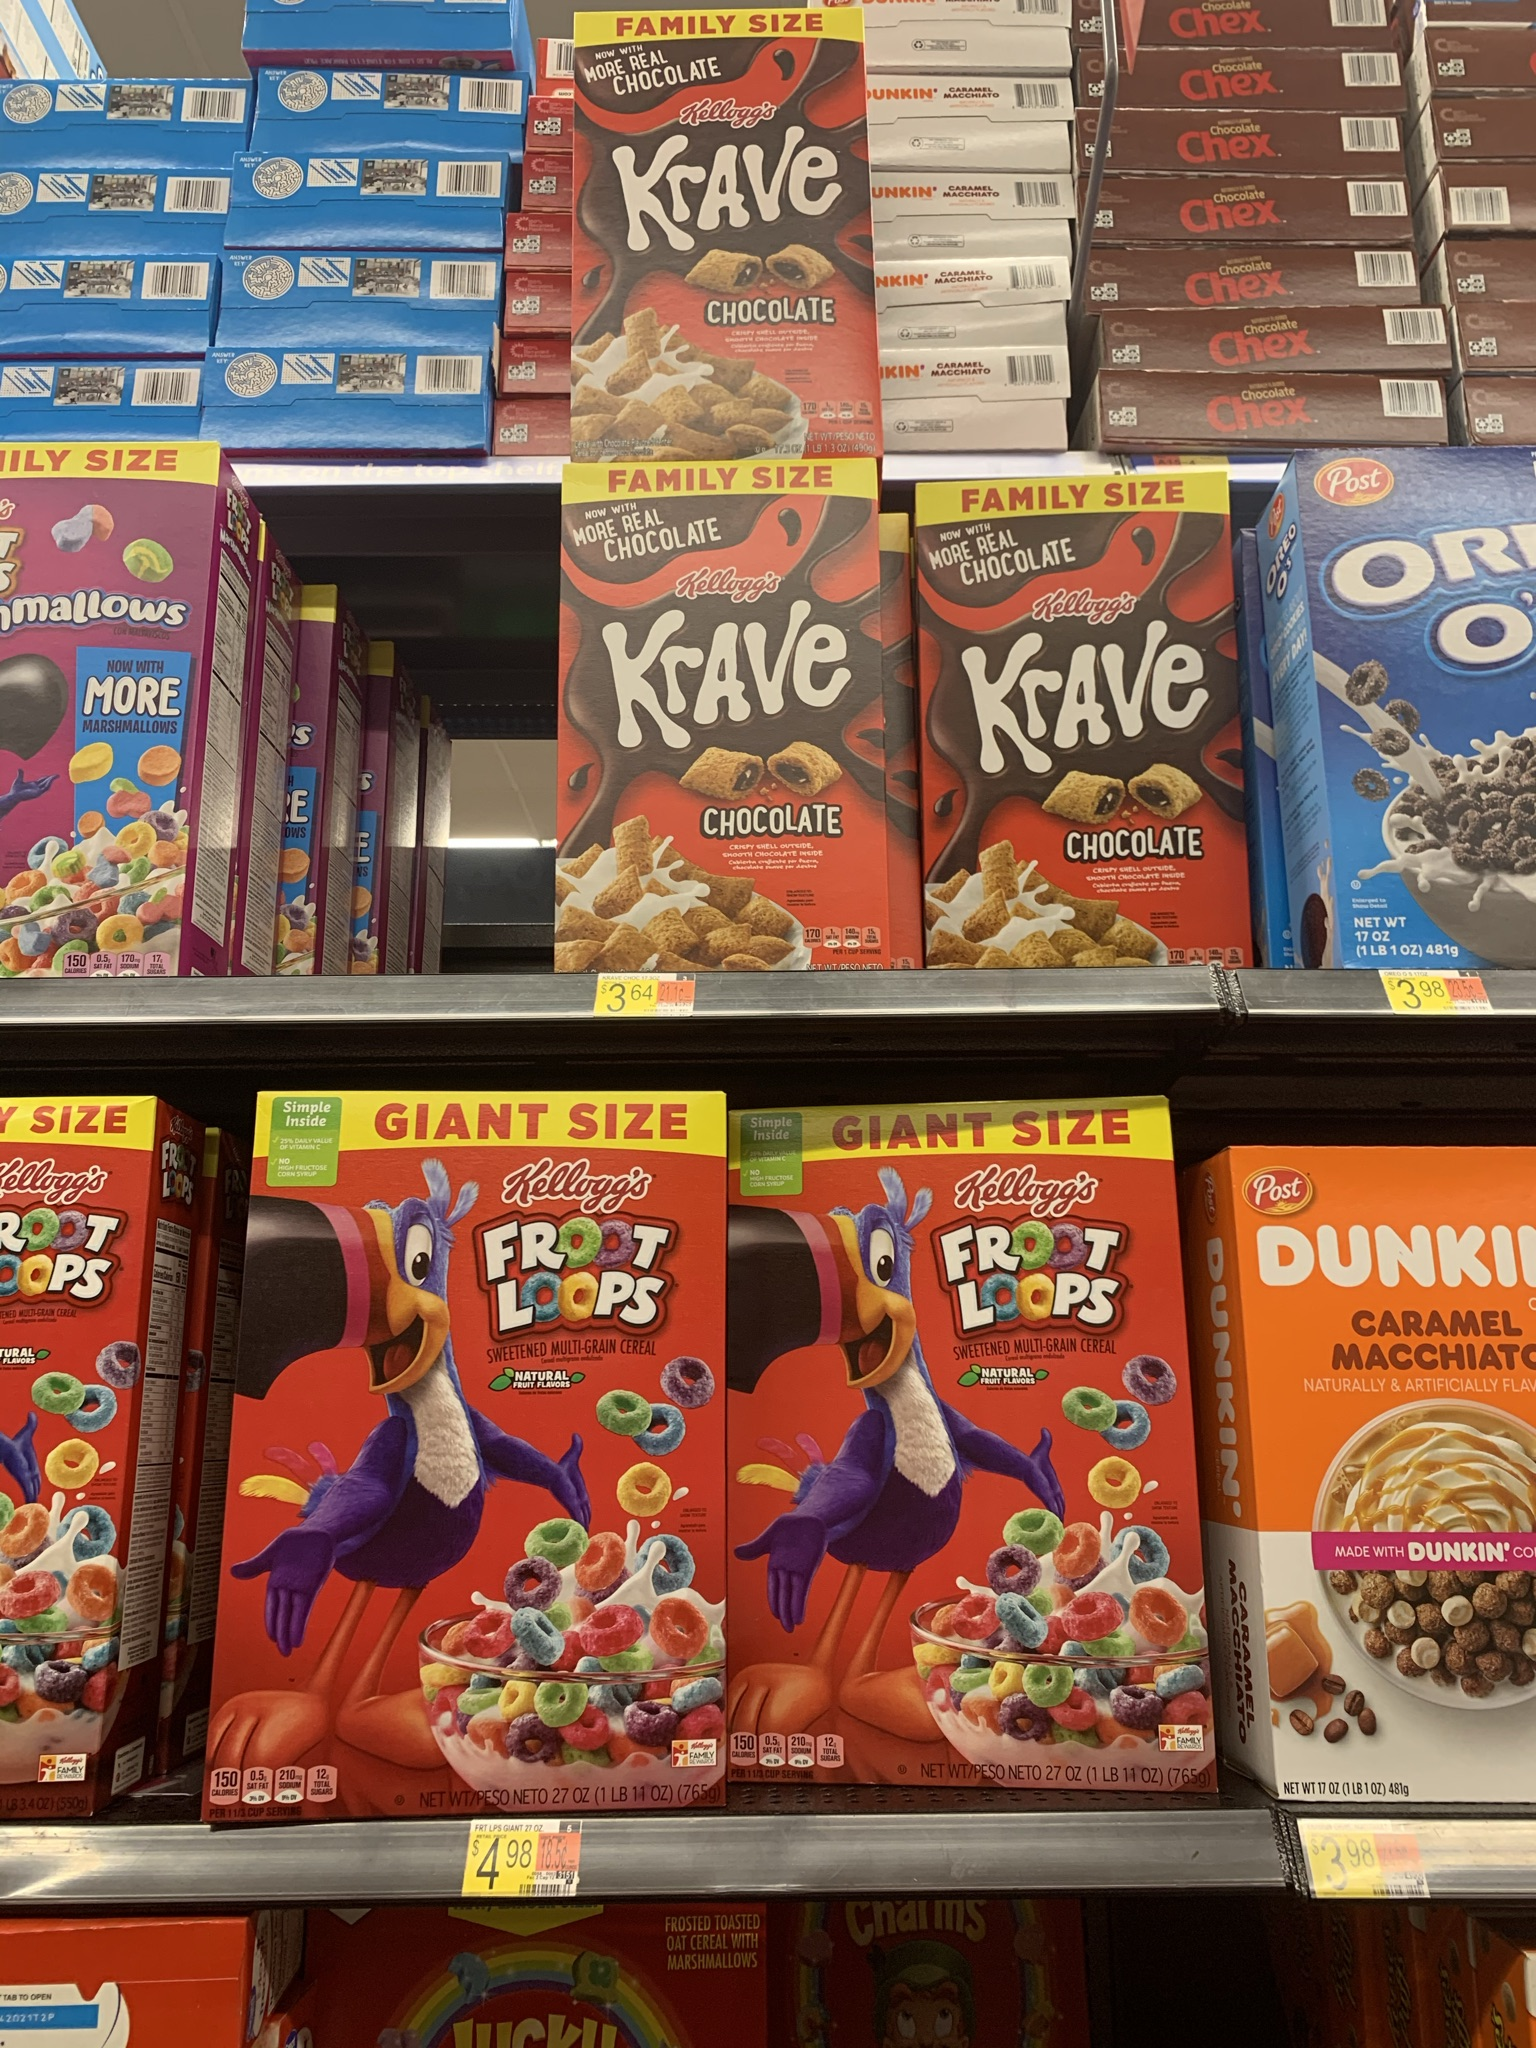Cereal: (210, 1079, 721, 1803), (726, 1097, 1212, 1793), (550, 455, 905, 976), (904, 469, 1254, 963), (571, 3, 873, 452)
